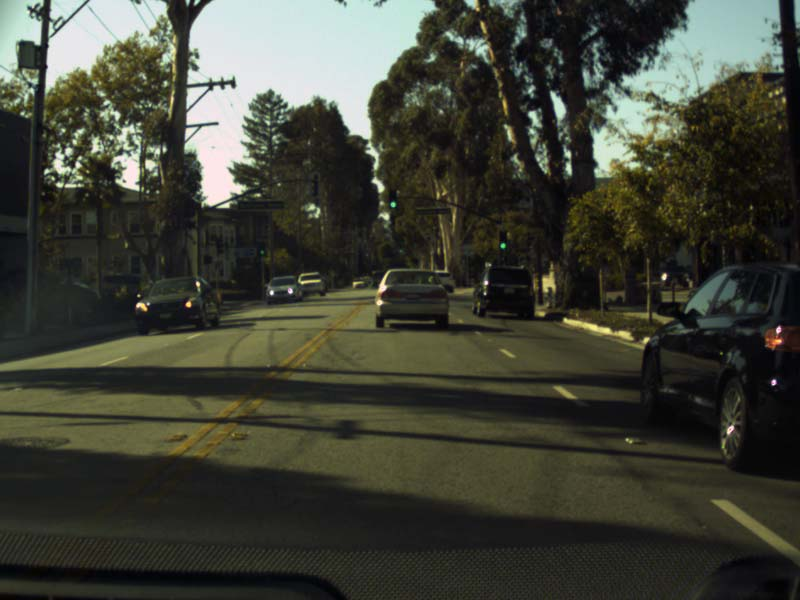Green: (389, 189, 397, 208), (499, 230, 506, 249), (397, 238, 405, 254), (257, 245, 266, 256)
